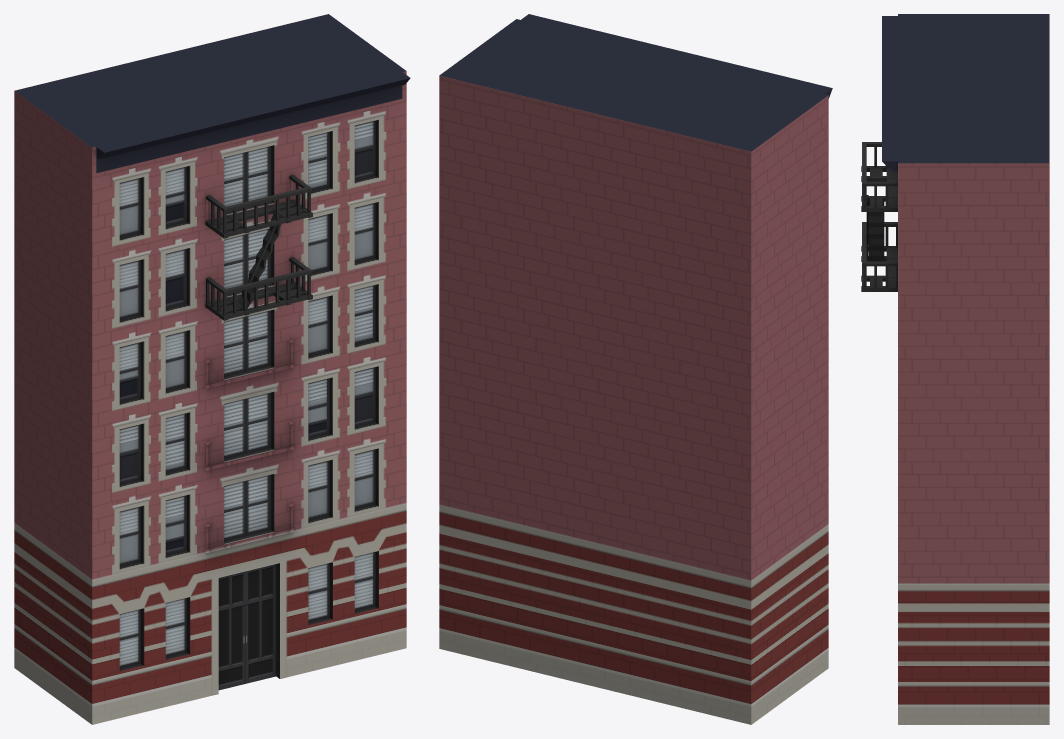
The model's file is Apartment.obj.
The picture shows the model from 3 angles, left to right: view 1: azimuth 30°, elevation 25°; view 2: azimuth 150°, elevation 25°; view 3: azimuth 270°, elevation 25°; orthographic projection. The views are drawn at different scales.
Parts seen in each view (by area): view 1: Apartment1; view 2: Apartment1; view 3: Apartment1.
Part boxes in pixels (x1,y1,x2,y2): Apartment1: (14,14,410,724); Apartment1: (439,14,832,724); Apartment1: (861,14,1049,724).
Size of the model in its own units: 10.32 by 18.1 by 5.49.
1 material, 1 textured.
